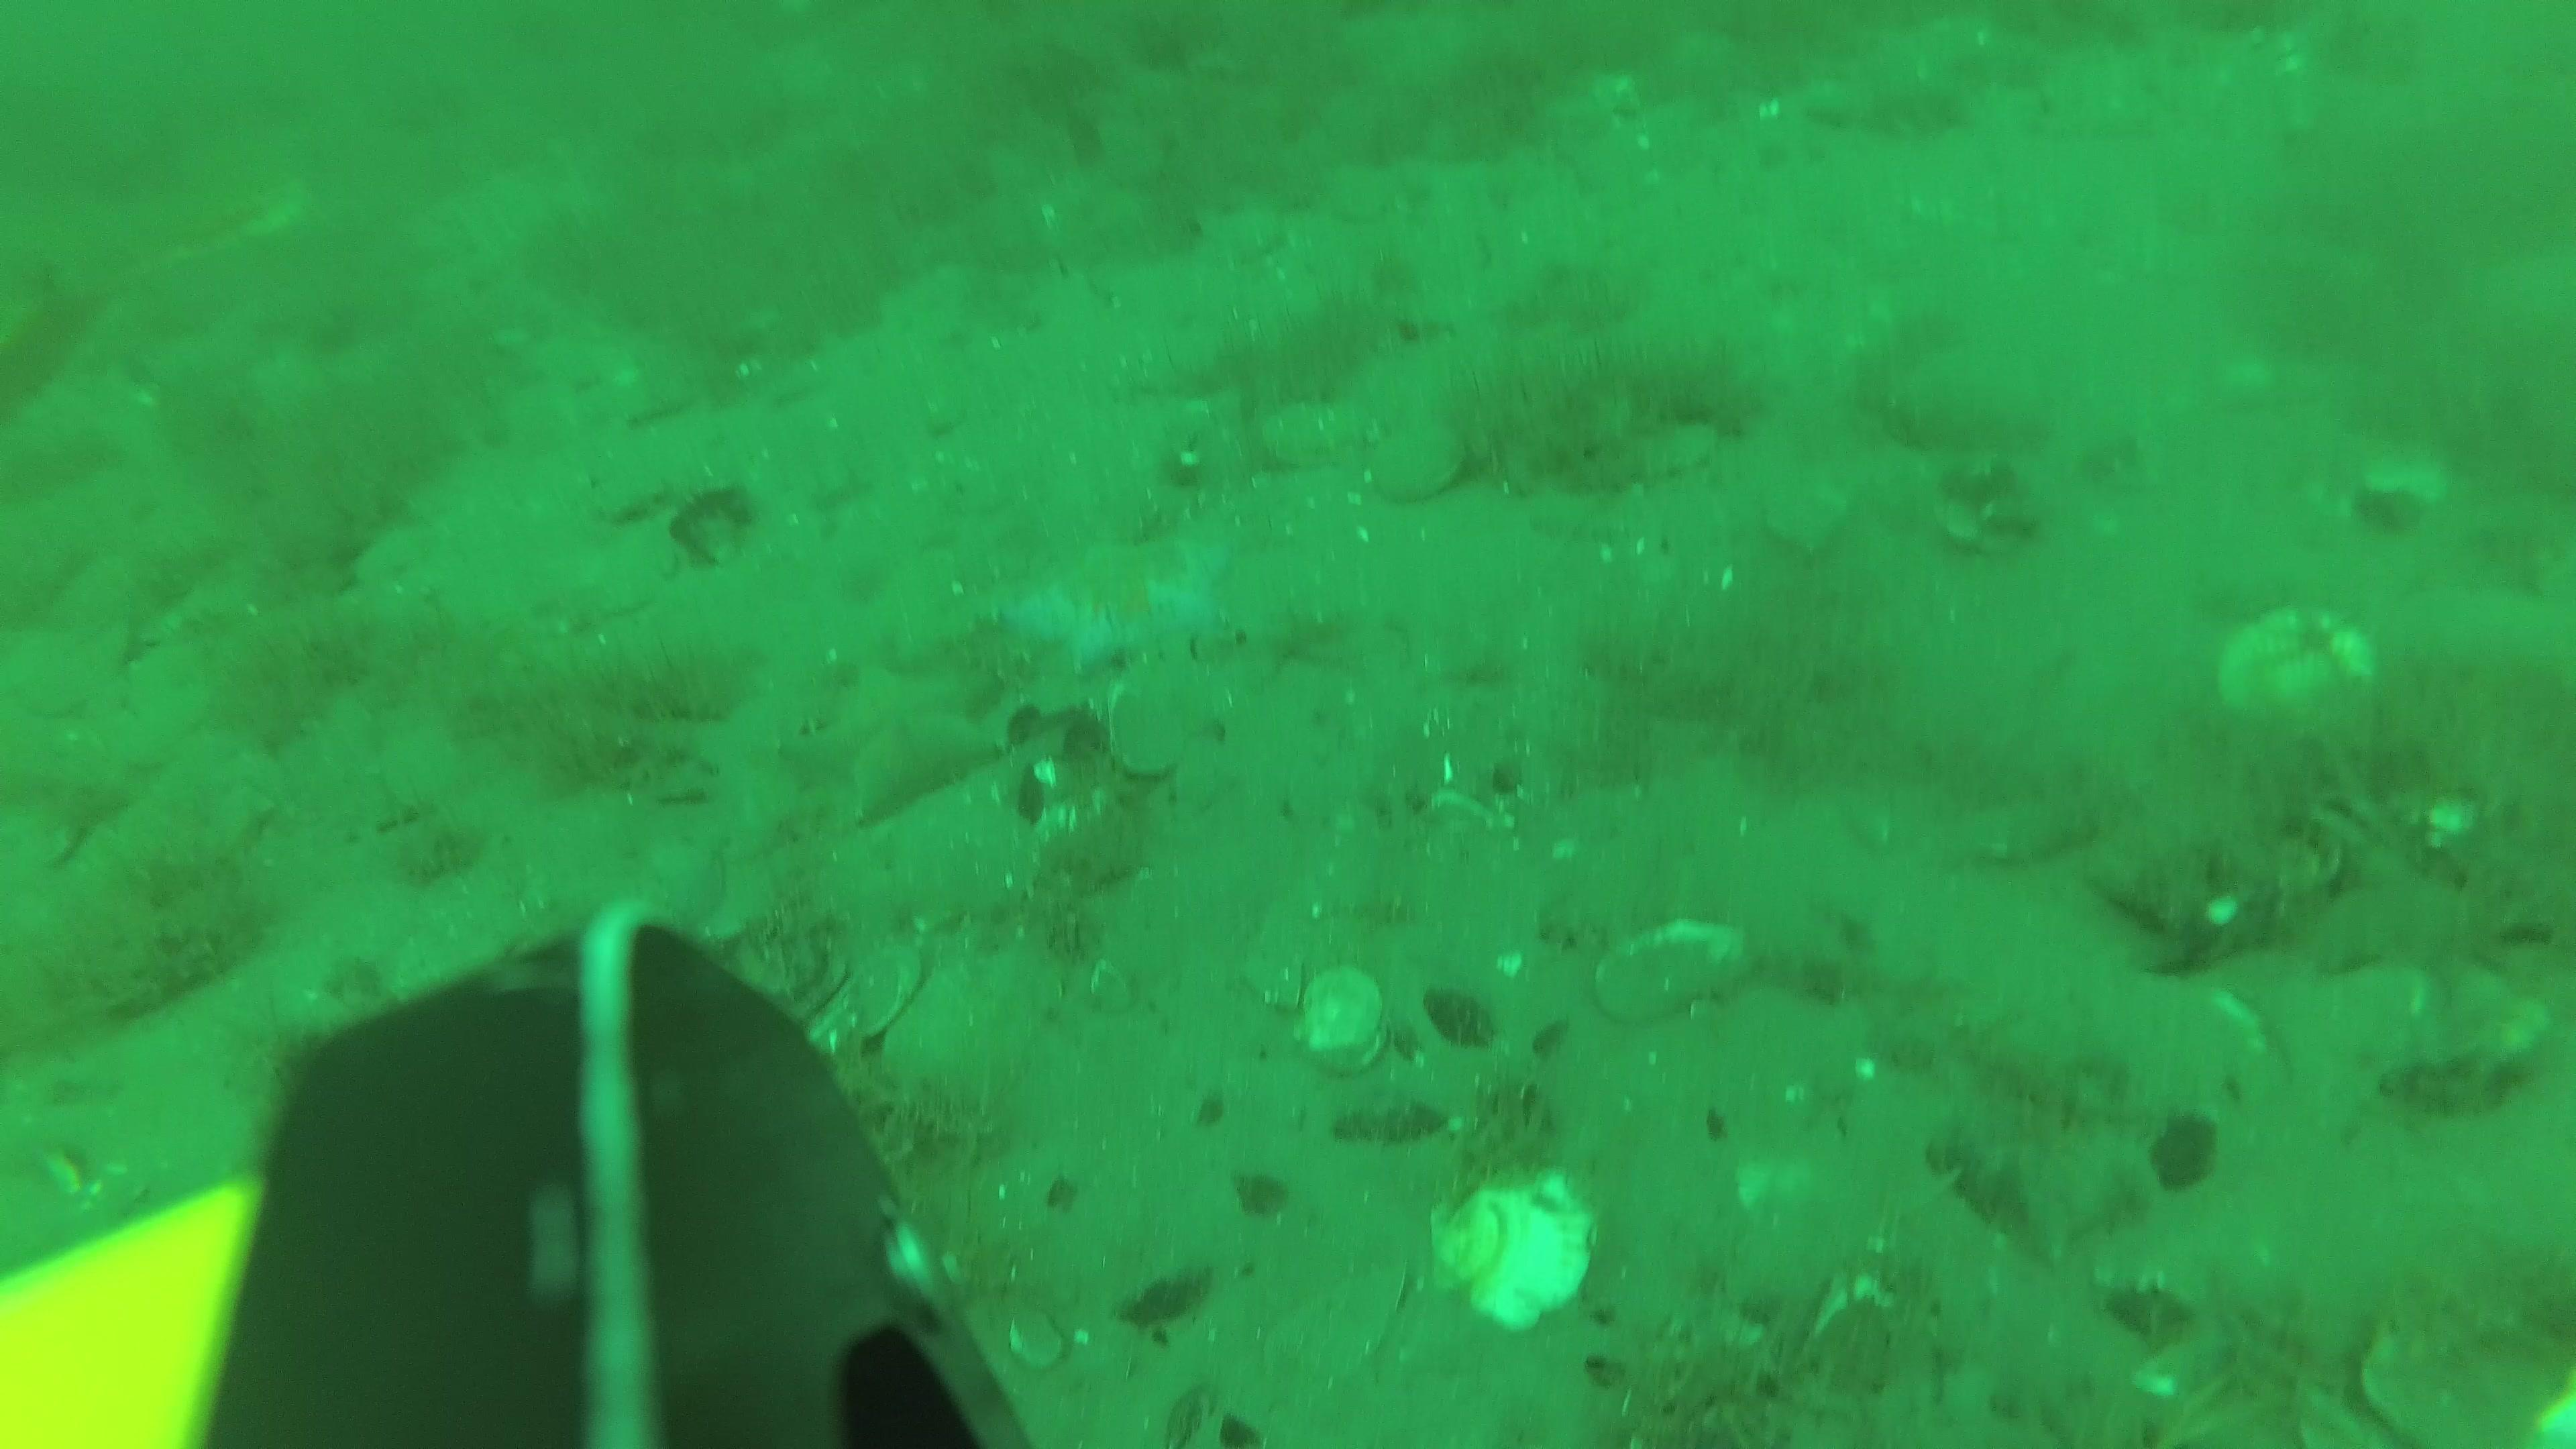scallop: (1431, 1169, 1596, 1330), (2220, 612, 2378, 718), (1592, 927, 1741, 1017), (1288, 971, 1394, 1065), (1373, 419, 1458, 501), (1258, 402, 1361, 456)
starfish: (789, 651, 1008, 816), (1010, 529, 1246, 671)
